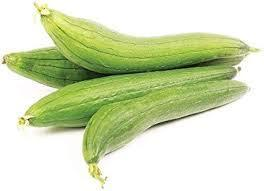sponge gourd: (1, 0, 263, 188), (81, 78, 250, 187), (32, 0, 262, 74), (16, 63, 241, 128), (1, 45, 101, 88)
